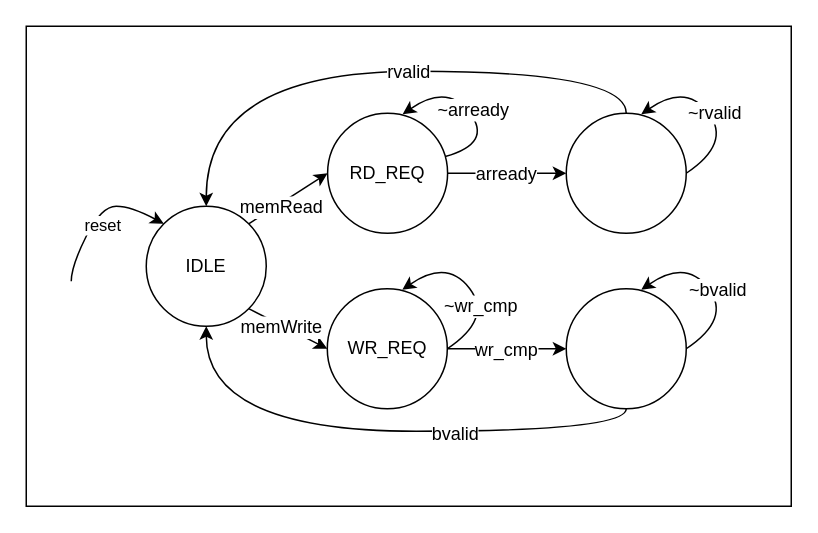
Some shapes in this 818 by 533 pixel diagram are drawn without their labels. The centre of each missing label's shape, as x and y in pixels:
"DATA" goes at pixel 625 172.
"RESP" goes at pixel 625 348.
